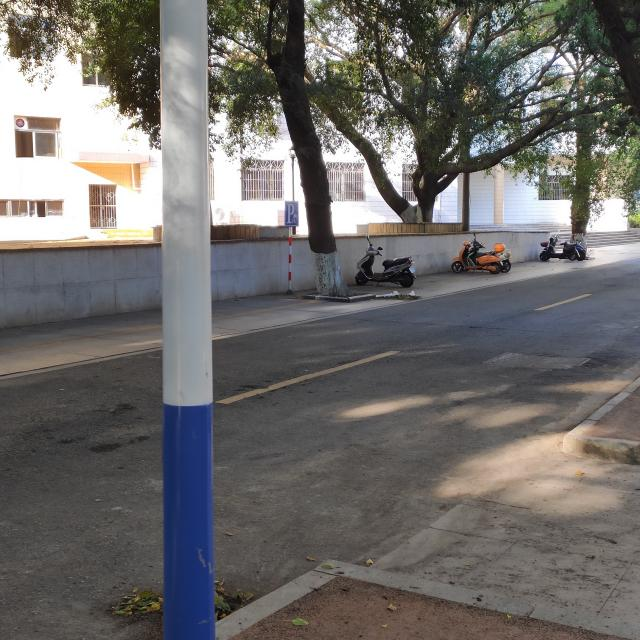motorbike: (355, 232, 417, 288), (451, 232, 506, 274), (539, 234, 579, 261)
pole: (141, 4, 226, 634), (288, 227, 292, 293)
